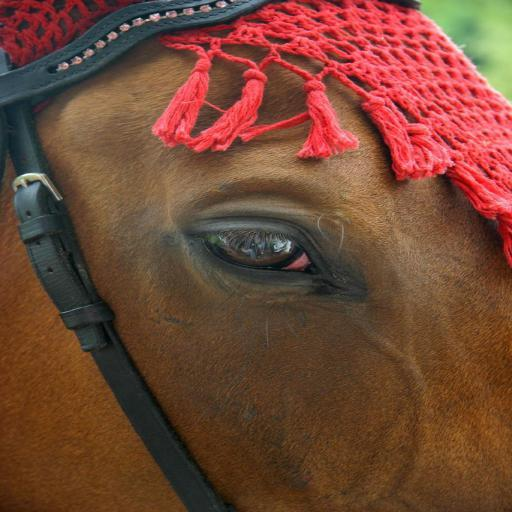Horse: (0, 0, 509, 512)
